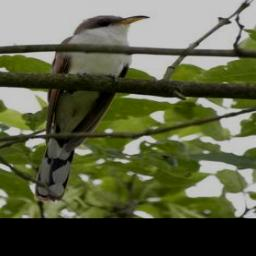Cuckoo: (34, 13, 152, 202)
